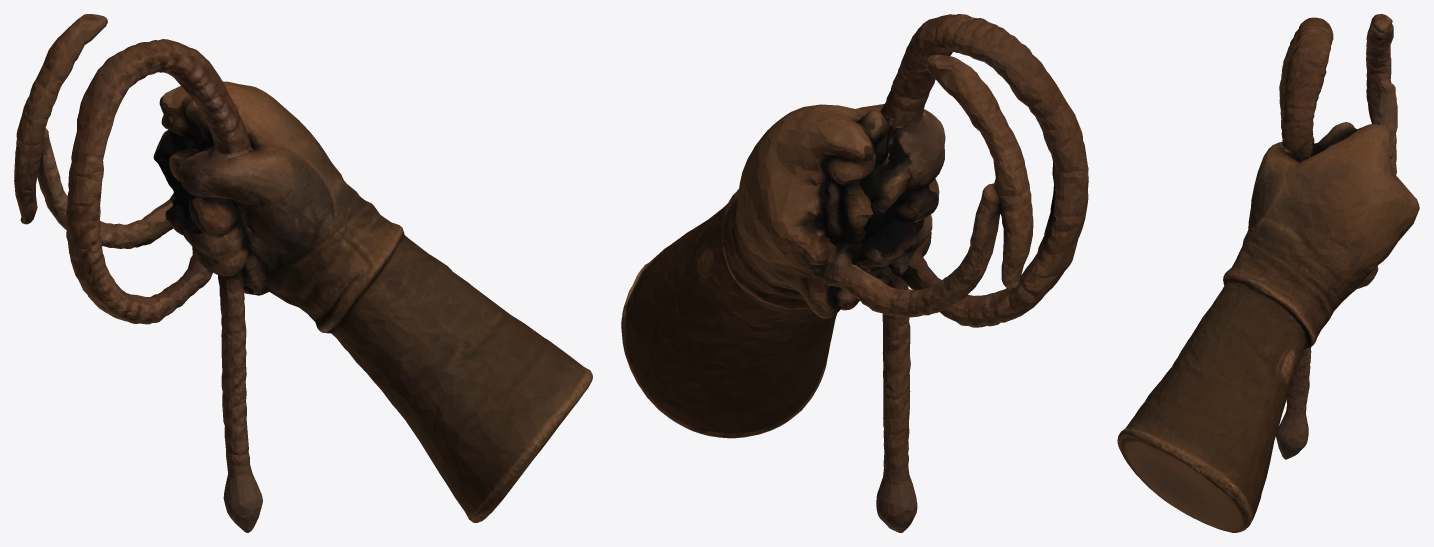
The model's file is glove-hd2.glb.
The picture shows the model from 3 angles, left to right: view 1: azimuth 30°, elevation 25°; view 2: azimuth 150°, elevation 25°; view 3: azimuth 270°, elevation 25°; orthographic projection. The views are drawn at different scales.
Visible parts, largest first — view 1: tmp7j7a5fbx.ply; view 2: tmp7j7a5fbx.ply; view 3: tmp7j7a5fbx.ply.
Boxes of the visible parts, bbox=[...] form: tmp7j7a5fbx.ply: bbox=[14, 14, 592, 532]; tmp7j7a5fbx.ply: bbox=[621, 14, 1088, 532]; tmp7j7a5fbx.ply: bbox=[1117, 14, 1419, 532].
Size of the model in its own units: 1.94 by 1.99 by 1.36.
Materials: 1 (1 with a texture image).
